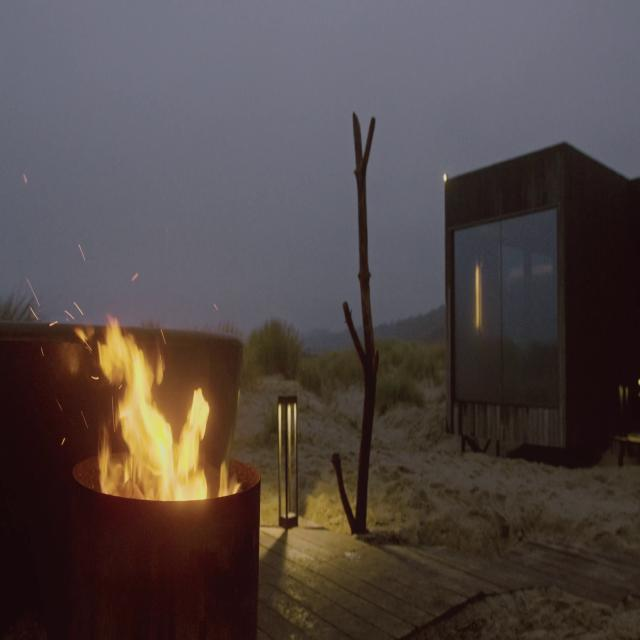Fire: (91, 316, 226, 503)
